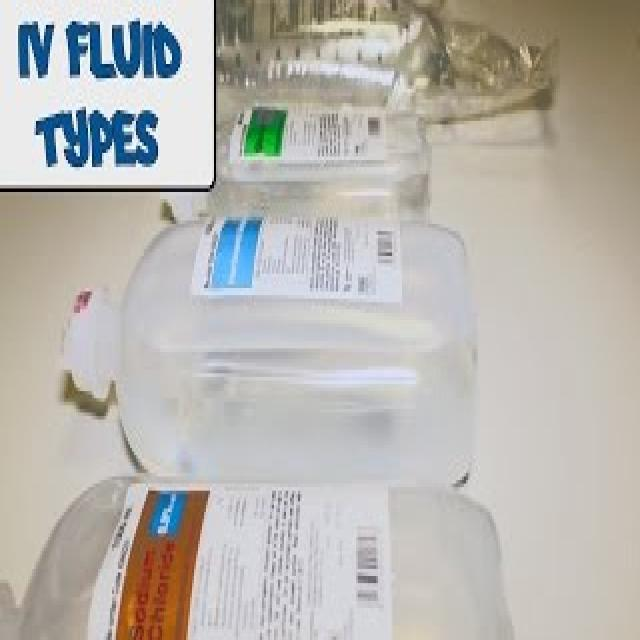B3: (47, 202, 500, 480)
